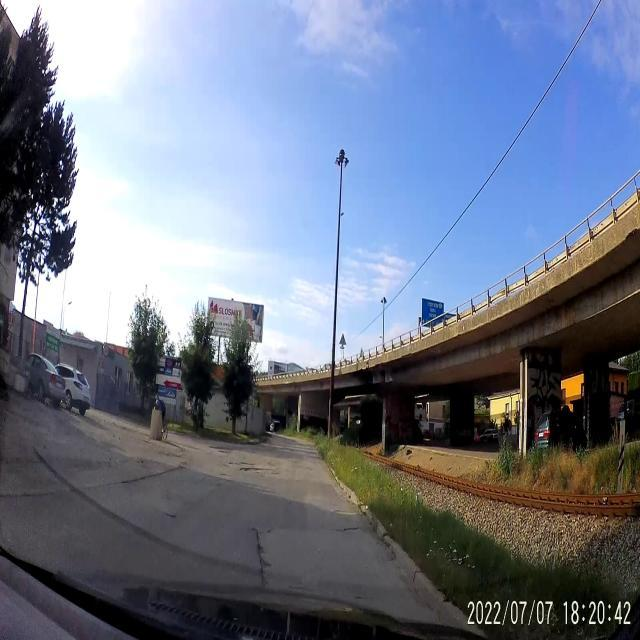Pothole: (252, 522, 268, 592), (342, 520, 362, 542), (160, 508, 178, 524), (226, 458, 253, 466), (240, 467, 270, 474)
